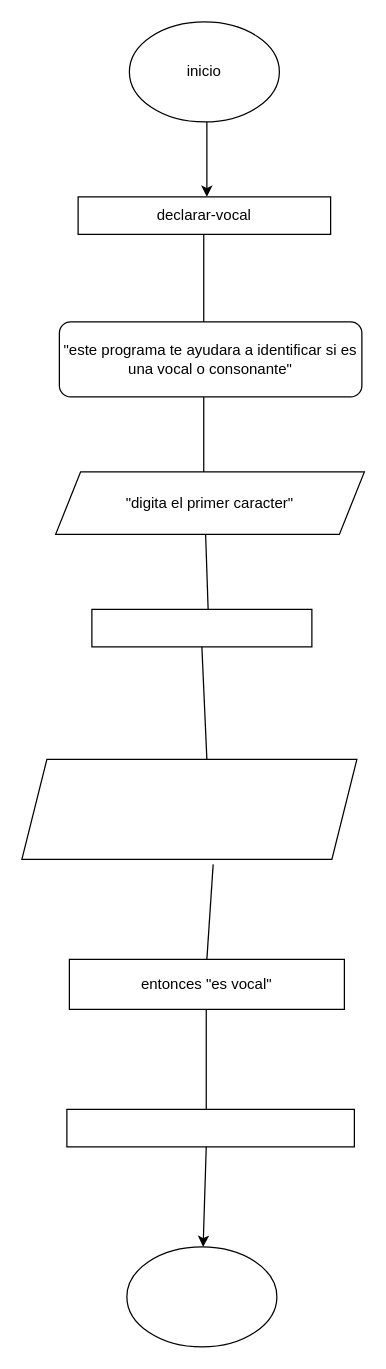
The diagram is 386 pixels wide and 1369 high, and some of its shapes have lost their labels. The shapes that lost their labels are listed below. From the top down, each one's box as (x1, y1, x2, y2) in pixels, then its label:
(91, 608, 312, 647): leer caracter
(21, 758, 357, 859): vocal == 'a' o vocal == 'e' o vocal == 'i' o vocal == 'o' o vocal == 'u'
(66, 1108, 354, 1147): "no es vocal"
